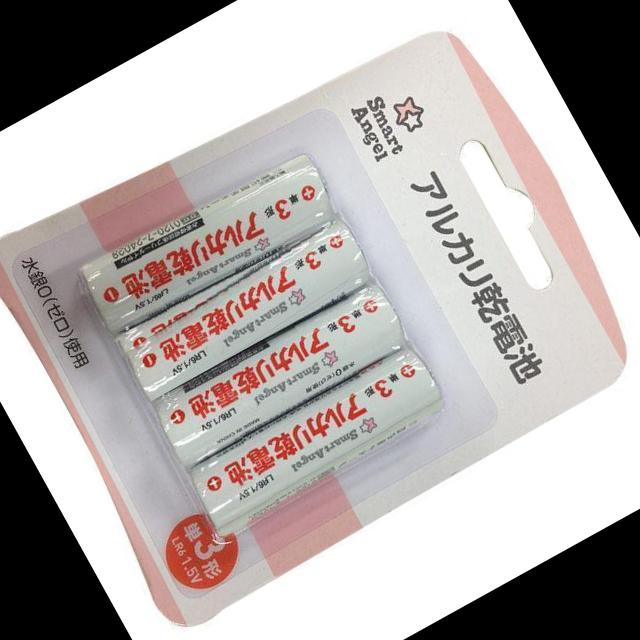Hazard: (69, 135, 350, 344), (176, 336, 457, 542), (144, 274, 418, 472), (108, 208, 381, 405)
